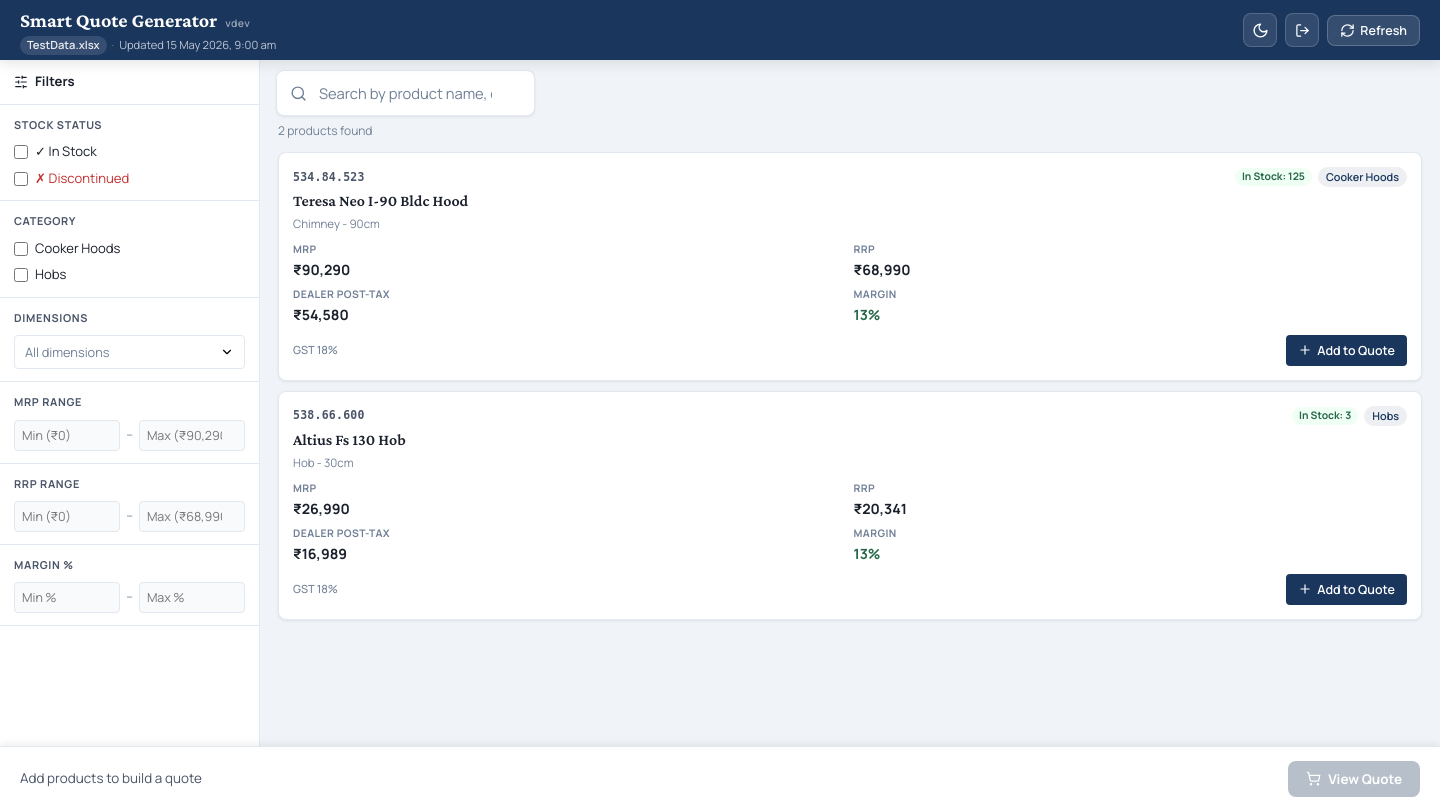
Test: App › adds a product to quote and updates the quote bar
Click the button "Add to Quote" below "125": (1347, 350) 1286,335 -> 1407,366
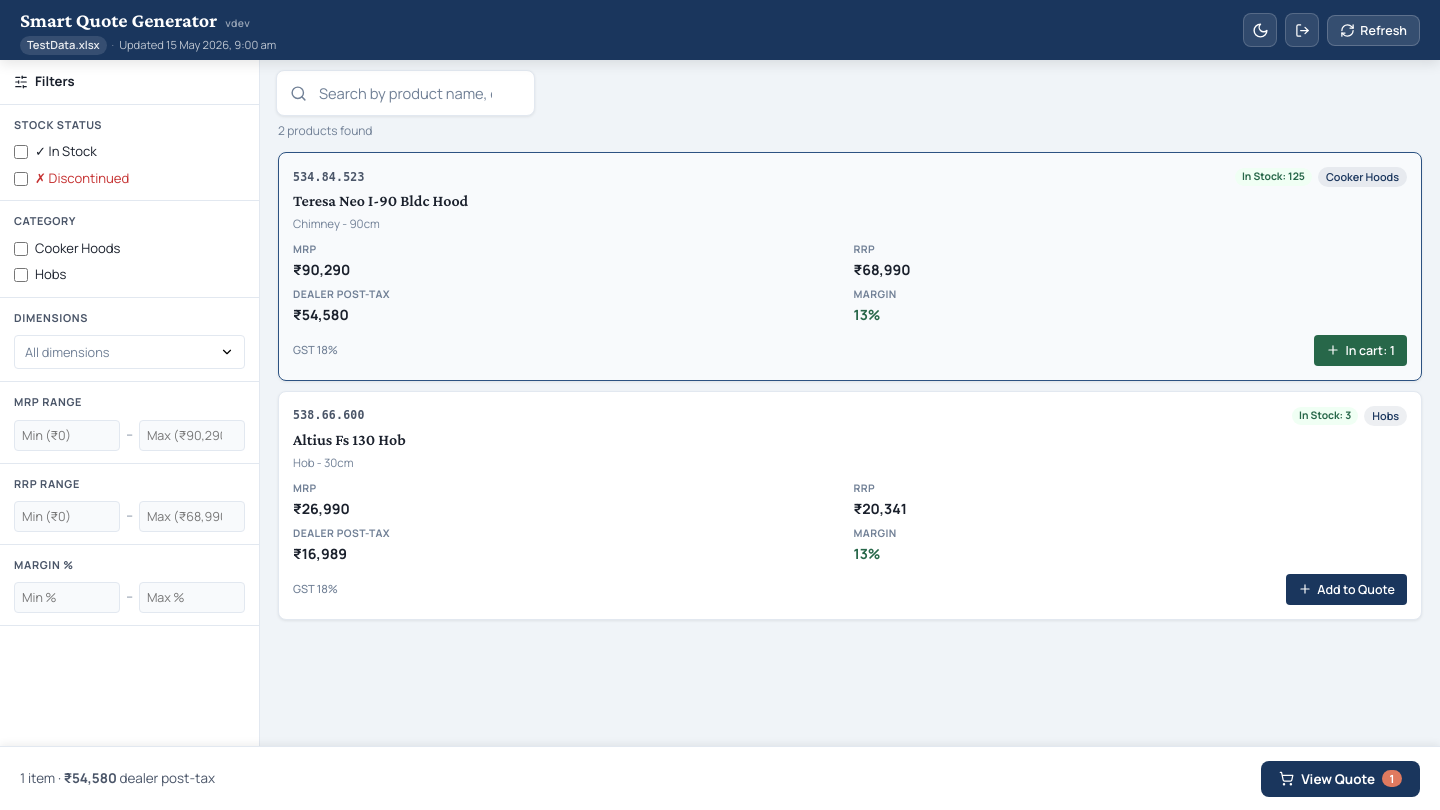
Expected: the button "View Quote 1" is enabled, 1261,760 -> 1420,796
